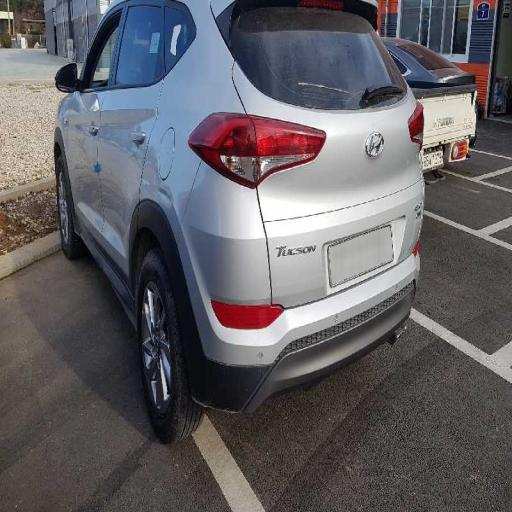broken: (68, 106, 71, 107)
dent: (210, 86, 323, 227)
scratch: (75, 120, 145, 279)
